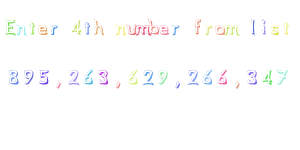,: (51, 76, 67, 95), (230, 77, 245, 96), (170, 76, 184, 96), (111, 77, 126, 95)
2: (184, 64, 202, 87), (65, 64, 82, 88), (141, 65, 156, 89)
3: (94, 62, 112, 90), (243, 63, 261, 88)
4: (259, 64, 274, 89), (67, 17, 83, 37)
5: (35, 64, 52, 89)
6: (214, 65, 233, 90), (79, 63, 96, 88), (124, 64, 141, 88), (200, 65, 216, 88)
7: (273, 64, 293, 90)
8: (4, 64, 22, 88)
9: (154, 64, 171, 90), (19, 64, 37, 88)
E: (1, 16, 16, 37)
b: (147, 16, 160, 38)
e: (157, 19, 170, 39), (36, 21, 49, 39)
f: (189, 15, 204, 37)
h: (92, 13, 107, 39)
i: (258, 18, 270, 38)
l: (246, 15, 259, 37)
m: (222, 21, 241, 38), (134, 22, 151, 39)
n: (111, 22, 126, 37), (14, 21, 27, 37)
o: (213, 22, 226, 38)
r: (170, 19, 183, 40), (46, 21, 59, 36), (202, 22, 214, 37)
s: (269, 22, 281, 39)
t: (279, 16, 293, 37), (26, 17, 37, 37), (82, 19, 91, 37)
u: (125, 22, 139, 38)
